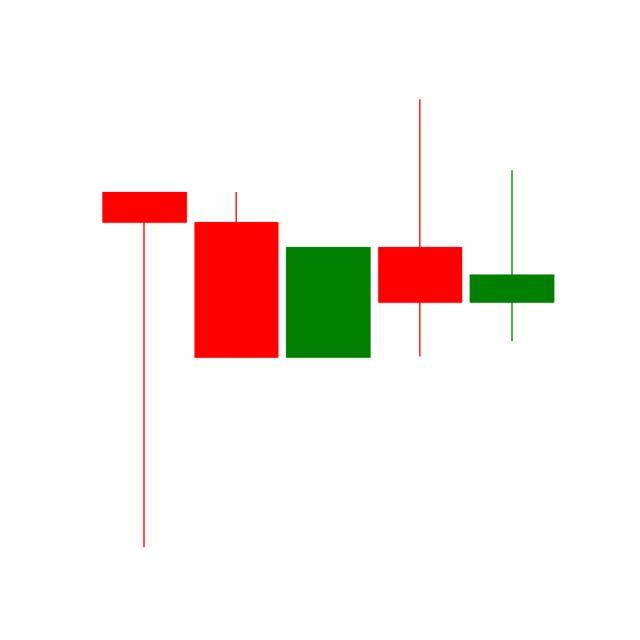Spinning Top: (466, 169, 559, 344)
